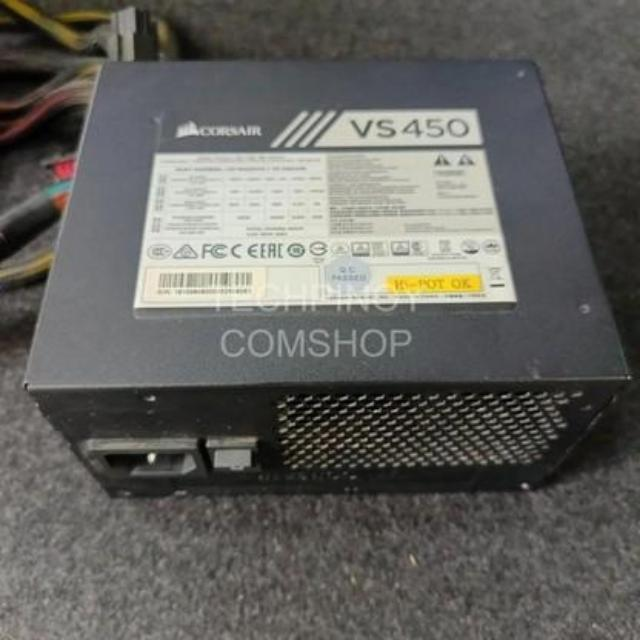PSU: (20, 50, 640, 533)
